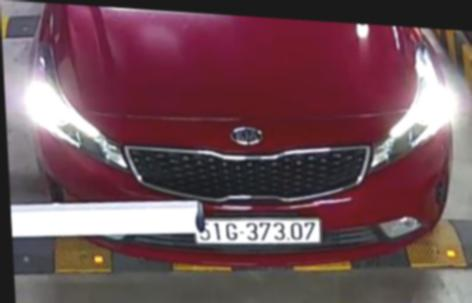License_Plate: (198, 209, 325, 249)
